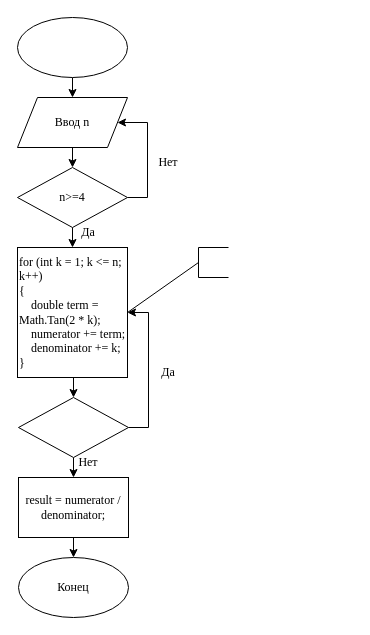
The diagram is 370 pixels wide and 635 high, and some of its shapes have lost their labels. Each missing label, with the centre of its shape:
k<=n: point 73,427
Начало: point 72,47
Цикл вычислений от k=1 до n: point 213,262
